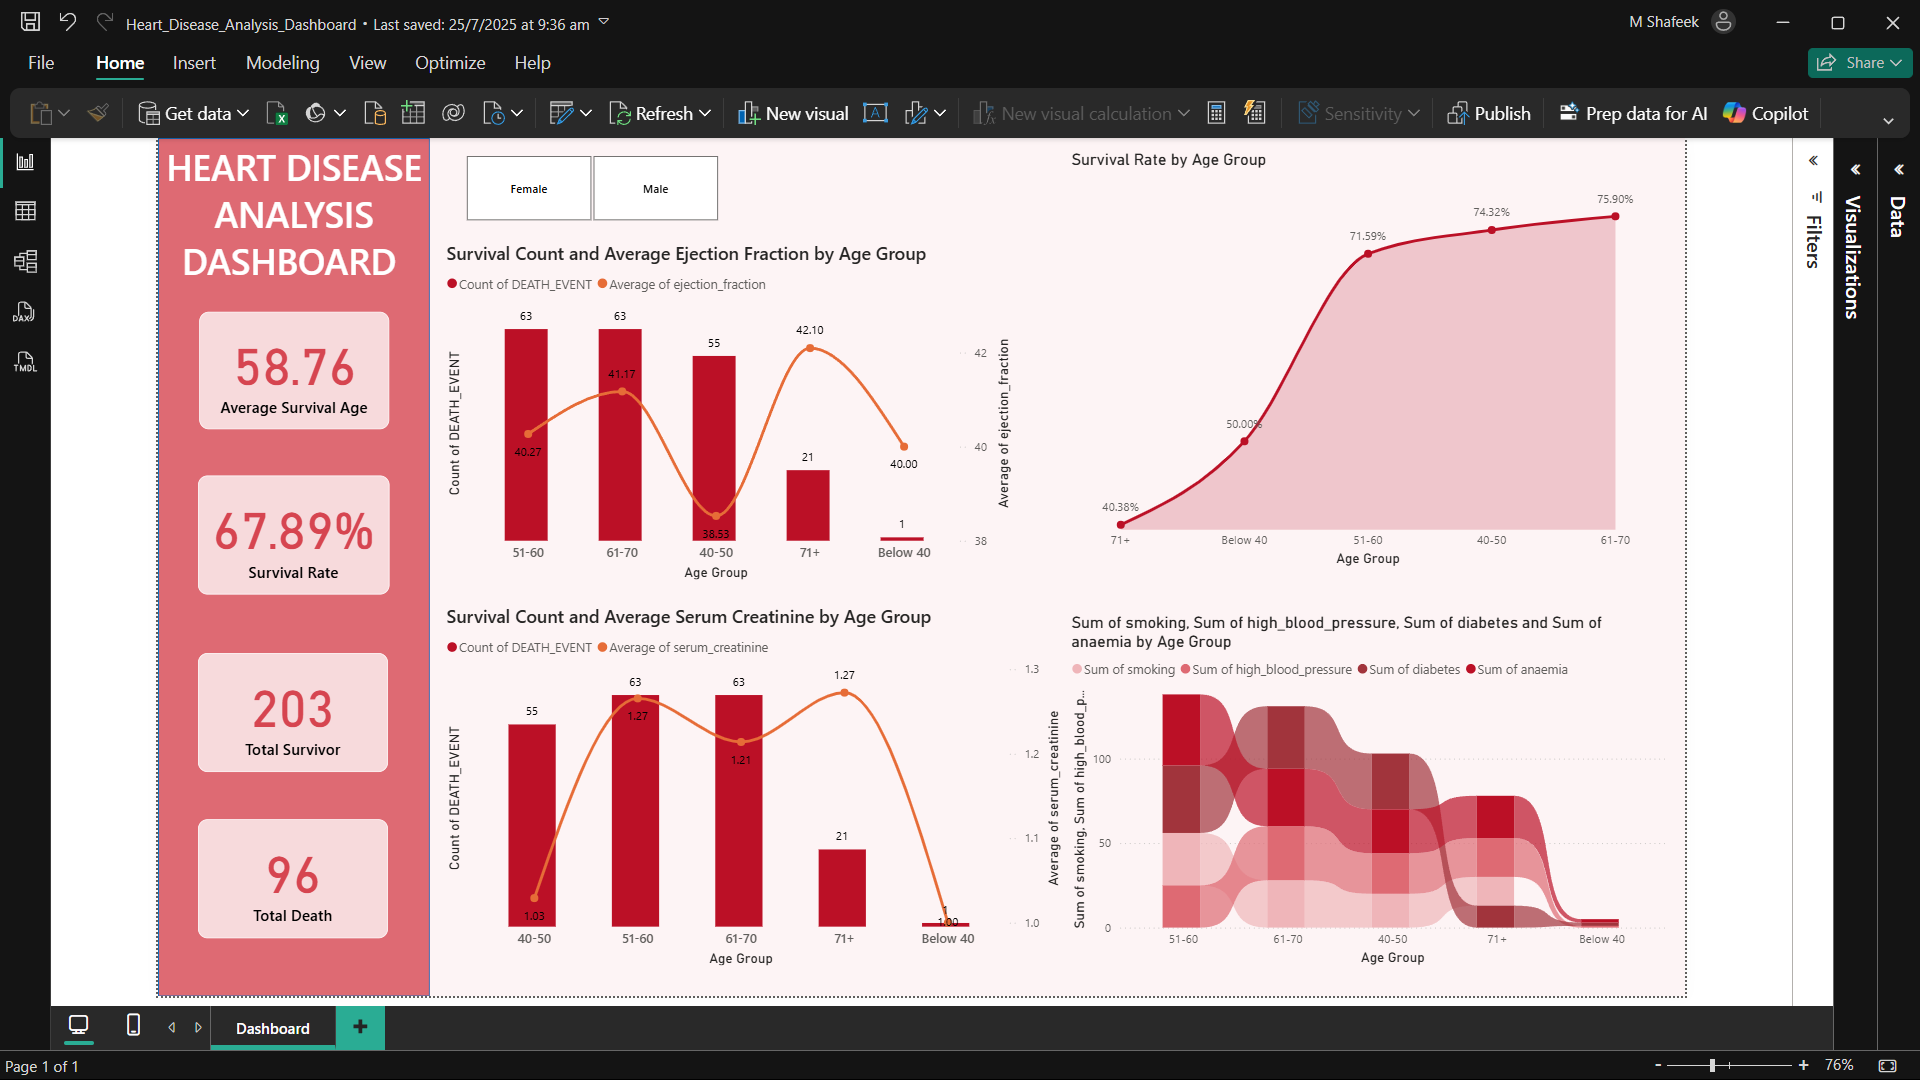

The dashboard page shown, as its layout file describes it:
{"tool":"powerbi","page":{"name":"Dashboard","canvas":[1600,900],"ordinal":0},"visuals":[{"type":"lineClusteredColumnComboChart","title":"Survival Count and Average Serum Creatinine by Age Group","fields":{"Category":["heart_Disease_clinical_records_.Age Group"],"Y":["CountNonNull(heart_Disease_clinical_records_.DEATH_EVENT)"],"Y2":["Avg(heart_Disease_clinical_records_.serum_creatinine)"]},"box":[298,488.4,654.1,383.7],"z":0},{"type":"lineChart","fields":{"Category":["heart_Disease_clinical_records_.Age Group"],"Y":["heart_Disease_clinical_records_.Survival Rate"]},"box":[952,11.6,632.3,441.9],"z":1000},{"type":"lineClusteredColumnComboChart","title":"Survival Count and Average Ejection Fraction by Age Group","fields":{"Category":["heart_Disease_clinical_records_.Age Group"],"Y2":["Avg(heart_Disease_clinical_records_.ejection_fraction)"],"Y":["CountNonNull(heart_Disease_clinical_records_.DEATH_EVENT)"]},"box":[298,107.6,601.7,360.5],"z":2000},{"type":"ribbonChart","fields":{"Category":["heart_Disease_clinical_records_.Age Group"],"Y":["Sum(heart_Disease_clinical_records_.smoking)","Sum(heart_Disease_clinical_records_.high_blood_pressure)","Sum(heart_Disease_clinical_records_.diabetes)","Sum(heart_Disease_clinical_records_.anaemia)"]},"box":[952,498.5,632.3,373.5],"z":3000},{"type":"shape","box":[0,0,285,900],"z":4000},{"type":"textbox","box":[0,0,284.9,161.3],"z":5000},{"type":"card","fields":{"Values":["heart_Disease_clinical_records_.Average Survival Age"]},"box":[43.6,181.7,199.1,123.5],"z":6000},{"type":"card","fields":{"Values":["heart_Disease_clinical_records_.Survival Rate"]},"box":[42.2,353.2,200.6,125],"z":7000},{"type":"card","fields":{"Values":["heart_Disease_clinical_records_.Total Survivor"]},"box":[42.2,539.2,199.1,125],"z":8000},{"type":"card","fields":{"Values":["heart_Disease_clinical_records_.Total Death"]},"box":[42.2,713.7,199.1,125],"z":9000},{"type":"slicer","fields":{"Values":["heart_Disease_clinical_records_.Gender"]},"box":[298,11.6,314,81.4],"z":9001},{"type":"textbox","box":[344.5,0,247.1,46.5],"z":9002}]}

Visuals, with their boxes on the page's 1600x900 design canvas (x1, y1, x2, y2). These are canvas units, not pixel positions in the 1920x1080 screenshot, which may show the page scaled, cropped or inside an application window:
"Survival Count and Average Serum Creatinine by Age Group" lineClusteredColumnComboChart: [298, 488, 952, 872]
lineChart - heart_Disease_clinical_records_.Age Group x heart_Disease_clinical_records_.Survival Rate: [952, 12, 1584, 454]
"Survival Count and Average Ejection Fraction by Age Group" lineClusteredColumnComboChart: [298, 108, 900, 468]
ribbonChart - heart_Disease_clinical_records_.Age Group x Sum(heart_Disease_clinical_records_.smoking): [952, 498, 1584, 872]
shape: [0, 0, 285, 900]
textbox: [0, 0, 285, 161]
card - heart_Disease_clinical_records_.Average Survival Age: [44, 182, 243, 305]
card - heart_Disease_clinical_records_.Survival Rate: [42, 353, 243, 478]
card - heart_Disease_clinical_records_.Total Survivor: [42, 539, 241, 664]
card - heart_Disease_clinical_records_.Total Death: [42, 714, 241, 839]
slicer - heart_Disease_clinical_records_.Gender: [298, 12, 612, 93]
textbox: [344, 0, 592, 46]
